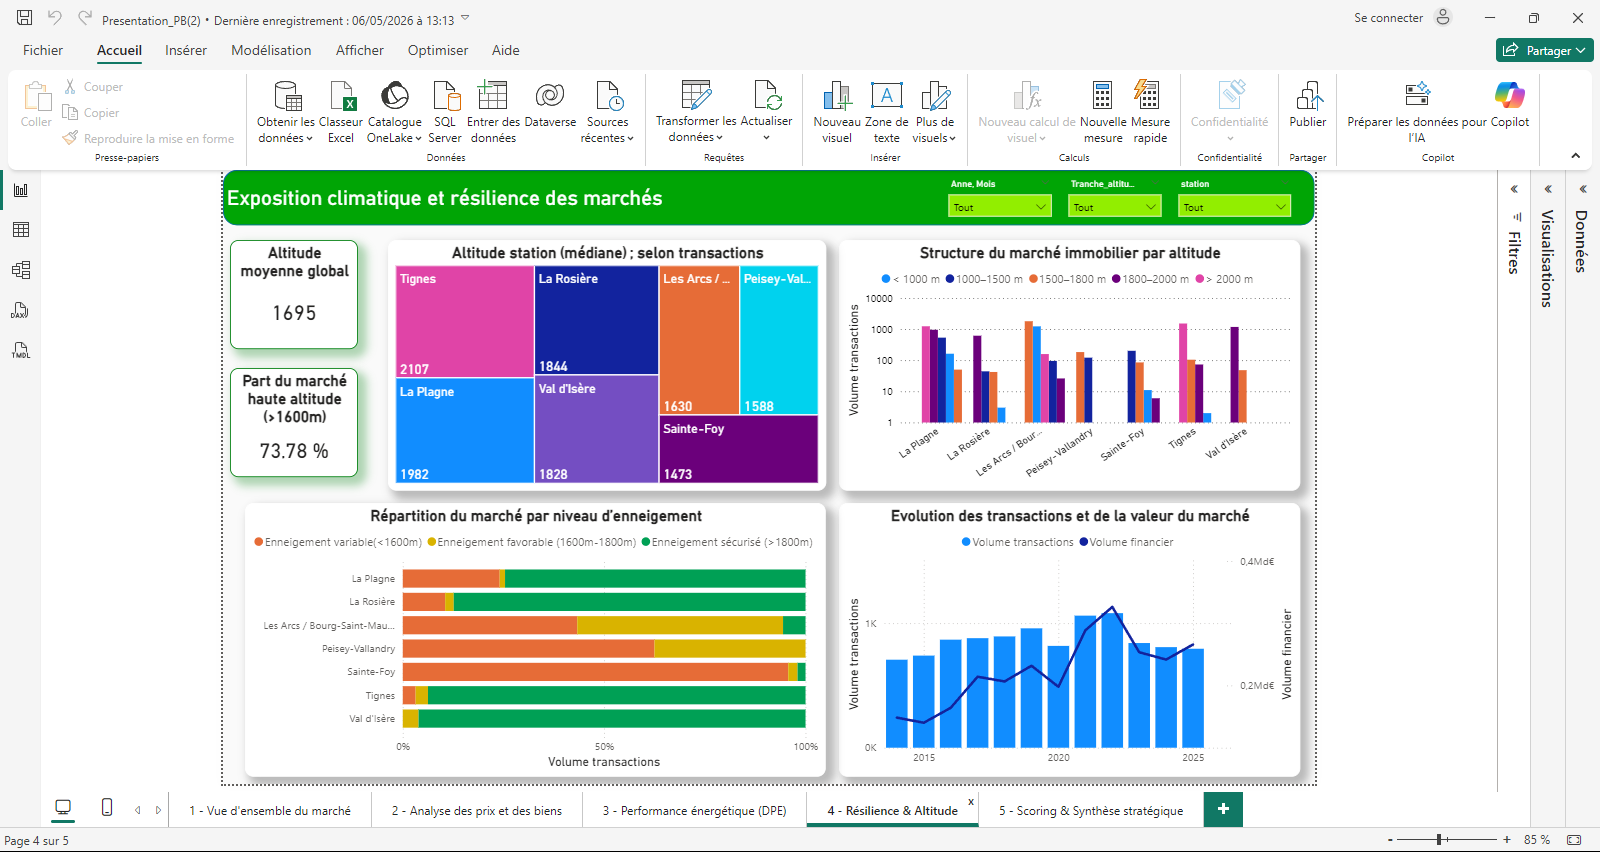

The dashboard page shown, as its layout file describes it:
{"tool":"powerbi","page":{"name":"4 - Résilience & Altitude","canvas":[1280,720],"ordinal":3},"visuals":[{"type":"shape","box":[0,0,1280,65],"z":0},{"type":"clusteredColumnChart","title":"Structure du marché immobilier par altitude","fields":{"Category":["Stations.station"],"Y":["Mesures.Volume transactions"],"Series":["dvf_clean.Tranche_altitude"]},"box":[722.3,82.1,540.6,294.3],"z":1000},{"type":"treemap","title":"Altitude station (médiane) ; selon transactions","fields":{"Group":["Stations.station"],"Values":["Median(dvf_clean.altitude)"]},"box":[193.5,82.1,513.6,294.3],"z":2000},{"type":"cardVisual","title":"Altitude moyenne global","fields":{"Data":["Avg(dvf_clean.altitude)"]},"box":[8.8,82.5,150,127.5],"z":3000},{"type":"slicer","title":"Station","fields":{"Values":["Stations.station"]},"box":[1110.5,4.7,152.4,56.3],"z":4000},{"type":"cardVisual","title":"Part du marché haute altitude (>1600m)","fields":{"Data":["mesure.% Transactions > 1800 m"]},"box":[8.2,232.2,150.1,127.8],"z":5000},{"type":"slicer","title":"Station","fields":{"Values":["dvf_clean.Tranche_altitude"]},"box":[981.5,4.7,129,56.3],"z":6000},{"type":"lineClusteredColumnComboChart","title":"Evolution des transactions et de la valeur du marché","fields":{"Category":["Calendrier.Anne Hiérarchie.Anne"],"Y":["mesure.Volume transactions"],"Y2":["mesure.Volume financier"]},"box":[722.3,390.5,540.6,321.3],"z":7000},{"type":"hundredPercentStackedBarChart","title":"Répartition du marché par niveau d’enneigement","fields":{"Category":["Stations.station"],"Series":["dvf_clean.Enneigement"],"Y":["mesure.Volume transactions"]},"box":[25.8,390.5,681.3,321.3],"z":8000},{"type":"slicer","title":"Station","fields":{"Values":["Calendrier.Anne Hiérarchie.Anne","Calendrier.Anne Hiérarchie.Mois"]},"box":[840.8,4.7,140.7,56.3],"z":9000}]}

Visuals, with their boxes on the page's 1280x720 design canvas (x1, y1, x2, y2). These are canvas units, not pixel positions in the 1600x852 screenshot, which may show the page scaled, cropped or inside an application window:
shape: (0, 0, 1280, 65)
"Structure du marché immobilier par altitude" clusteredColumnChart: (722, 82, 1263, 376)
"Altitude station (médiane) ; selon transactions" treemap: (194, 82, 707, 376)
"Altitude moyenne global" cardVisual: (9, 82, 159, 210)
"Station" slicer: (1110, 5, 1263, 61)
"Part du marché haute altitude (>1600m)" cardVisual: (8, 232, 158, 360)
"Station" slicer: (982, 5, 1110, 61)
"Evolution des transactions et de la valeur du marché" lineClusteredColumnComboChart: (722, 390, 1263, 712)
"Répartition du marché par niveau d’enneigement" hundredPercentStackedBarChart: (26, 390, 707, 712)
"Station" slicer: (841, 5, 982, 61)
